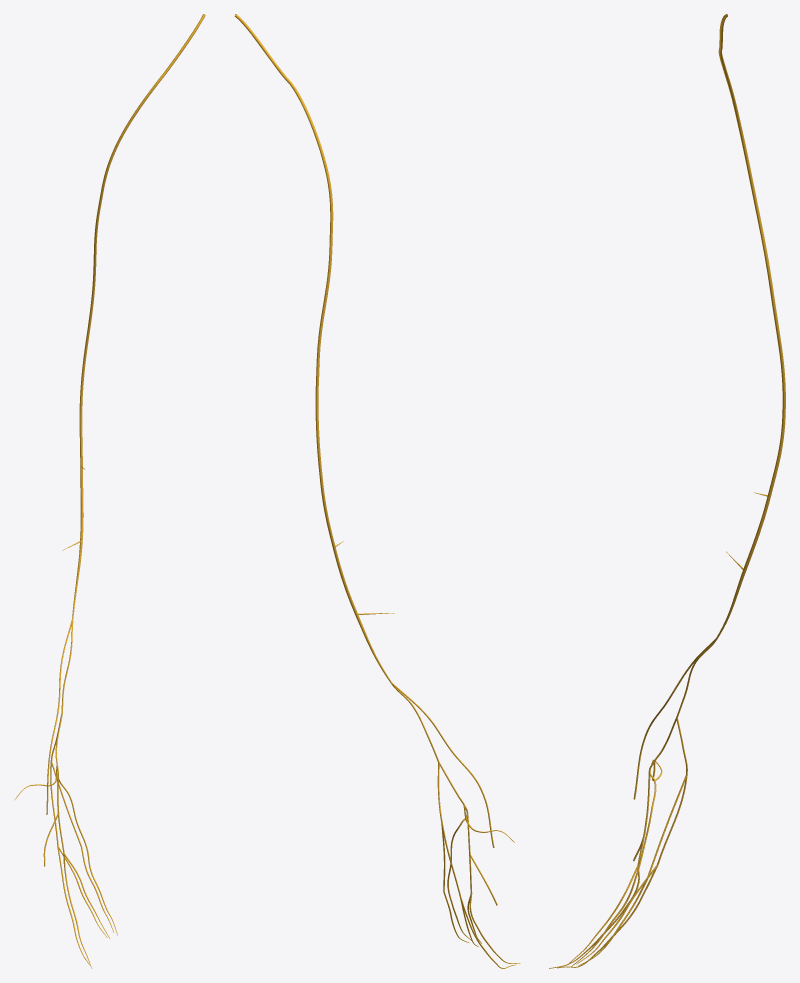
File: nervoso-ulnar-nerve-r.glb
3 views of the same model, side by side, from view 1: azimuth 30°, elevation 25°; view 2: azimuth 150°, elevation 25°; view 3: azimuth 270°, elevation 25° (orthographic). The views are drawn at different scales.
Visible parts, largest first — view 1: Ulnar nerve.r, Proper palmar digital branches of ulnar nerve.r, Dorsal digital branches of ulnar nerve.r; view 2: Ulnar nerve.r; view 3: Ulnar nerve.r, Proper palmar digital branches of ulnar nerve.r, Dorsal digital branches of ulnar nerve.r, Dorsal branch of ulnar nerve.r.
Boxes of the visible parts, box(x1,y1,x2,y2) form: Ulnar nerve.r: box(61, 14, 205, 713); Proper palmar digital branches of ulnar nerve.r: box(59, 779, 117, 968); Dorsal digital branches of ulnar nerve.r: box(57, 846, 114, 965); Ulnar nerve.r: box(234, 14, 439, 762); Ulnar nerve.r: box(676, 14, 785, 717); Proper palmar digital branches of ulnar nerve.r: box(549, 771, 656, 968); Dorsal digital branches of ulnar nerve.r: box(557, 865, 658, 968); Dorsal branch of ulnar nerve.r: box(646, 718, 687, 879).
Bounding box in the file's own units: 0.1853 × 0.6871 × 0.1384.
